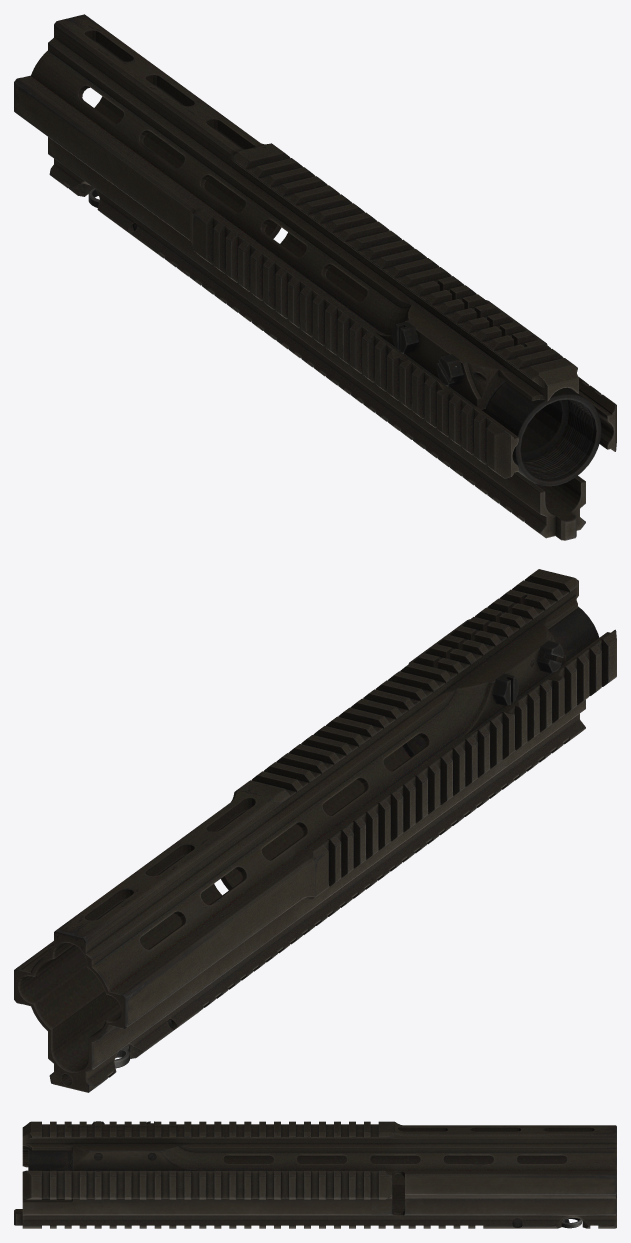
3 views of the same model, one above another, from view 1: azimuth 30°, elevation 25°; view 2: azimuth 150°, elevation 25°; view 3: azimuth 270°, elevation 25° (orthographic). The views are drawn at different scales.
Parts seen in each view (by area): view 1: TW_61703001d92c473c77021497_PZ_Import; view 2: TW_61703001d92c473c77021497_PZ_Import; view 3: TW_61703001d92c473c77021497_PZ_Import.
Boxes of the visible parts, box(x1,y1,x2,y2) form: TW_61703001d92c473c77021497_PZ_Import: box(14, 14, 616, 540); TW_61703001d92c473c77021497_PZ_Import: box(14, 569, 616, 1092); TW_61703001d92c473c77021497_PZ_Import: box(14, 1121, 616, 1228).
Size of the model in its own units: 0.0329 by 0.2331 by 0.0412.
Materials: 1 (1 with a texture image).
